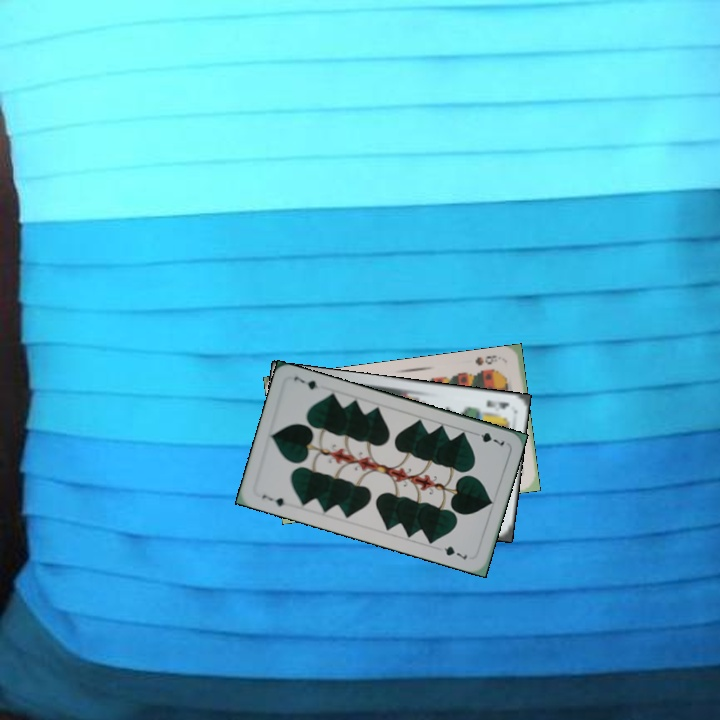EK: (482, 396, 511, 412)
G7: (468, 428, 507, 448), (258, 490, 287, 509)
S8: (471, 351, 500, 368)
